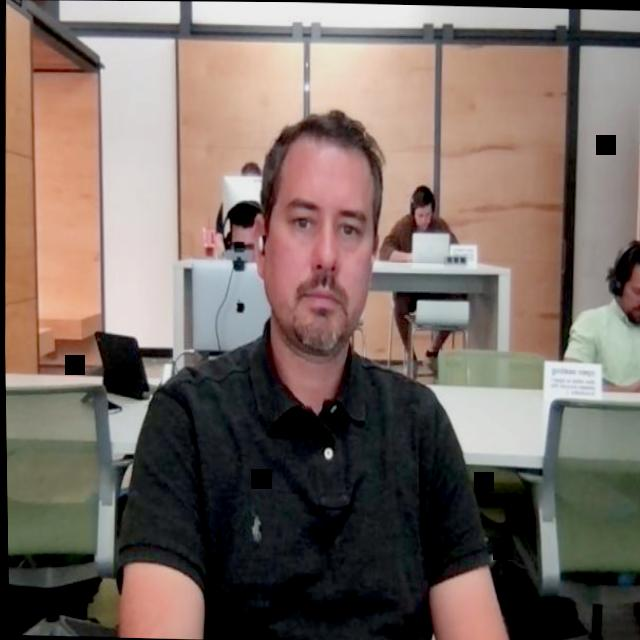NO-Mask: (251, 107, 390, 357), (606, 239, 640, 327), (411, 180, 434, 233)
